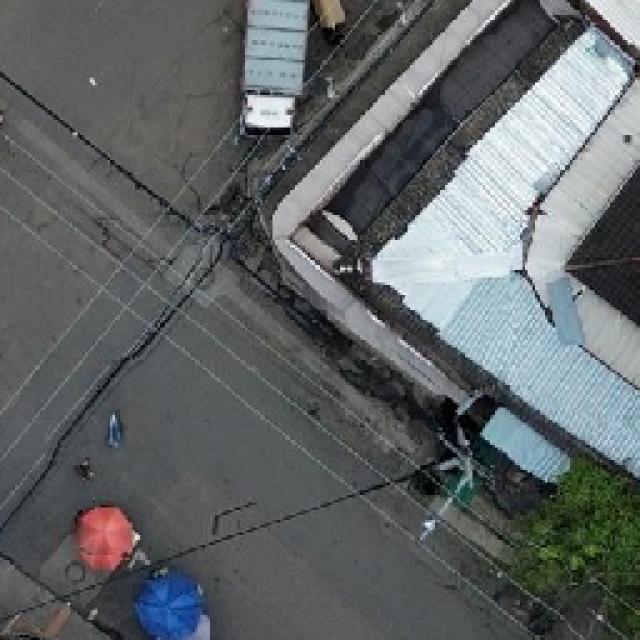vendedor_ambulante: (134, 570, 204, 640), (72, 502, 136, 572)
